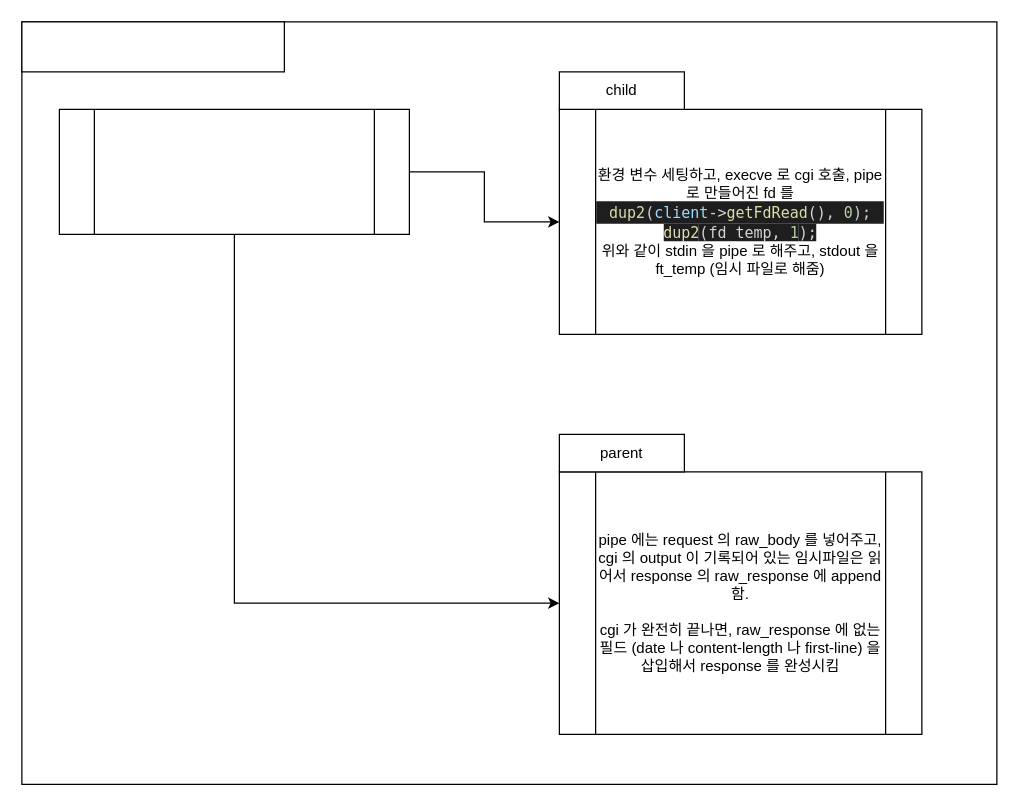
Image size: 1019x806. Some labels were removed from this diagram. The centre of each missing label's shape, as x and y in pixels:
pipe 로 fds[2] 만들고, open 으로 temp_file_fd 만들고 나서 fork: (233,171)
Response:: makeCgiResponse: (152,46)
